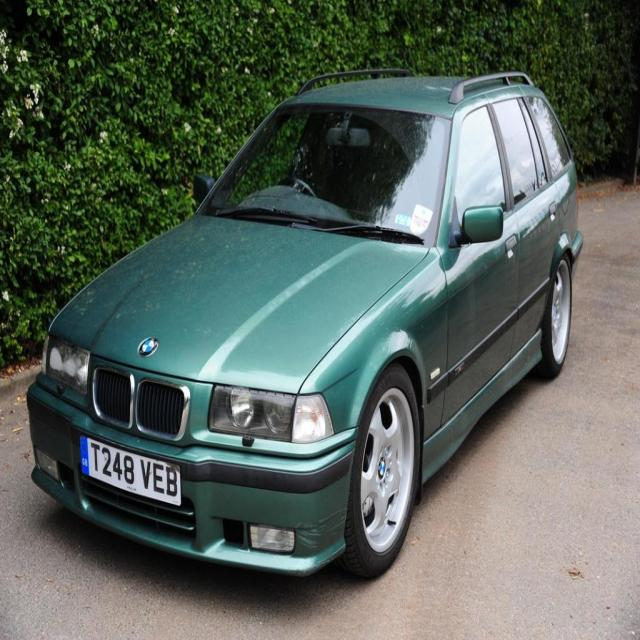car: (25, 68, 582, 576)
